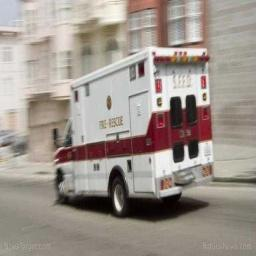Ambulance: (54, 48, 212, 215)
